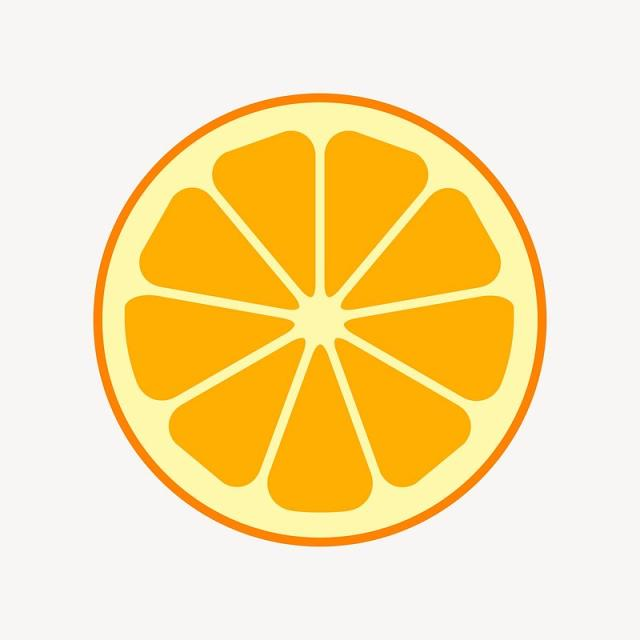orange: (101, 90, 554, 546)
